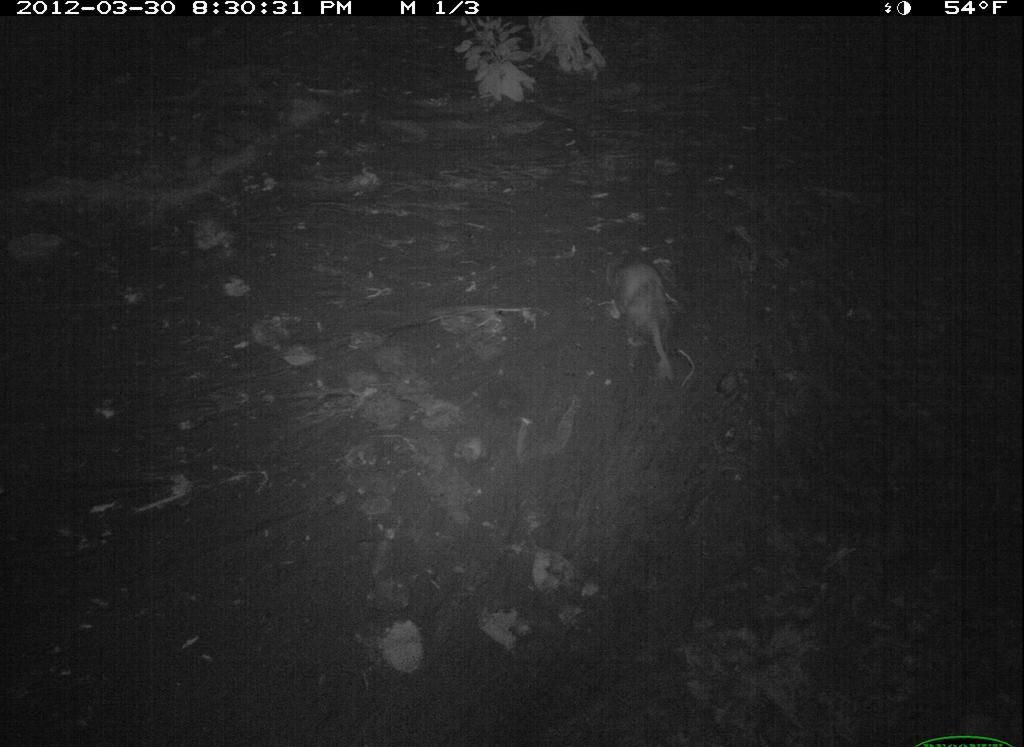opossum: (606, 245, 687, 390)
